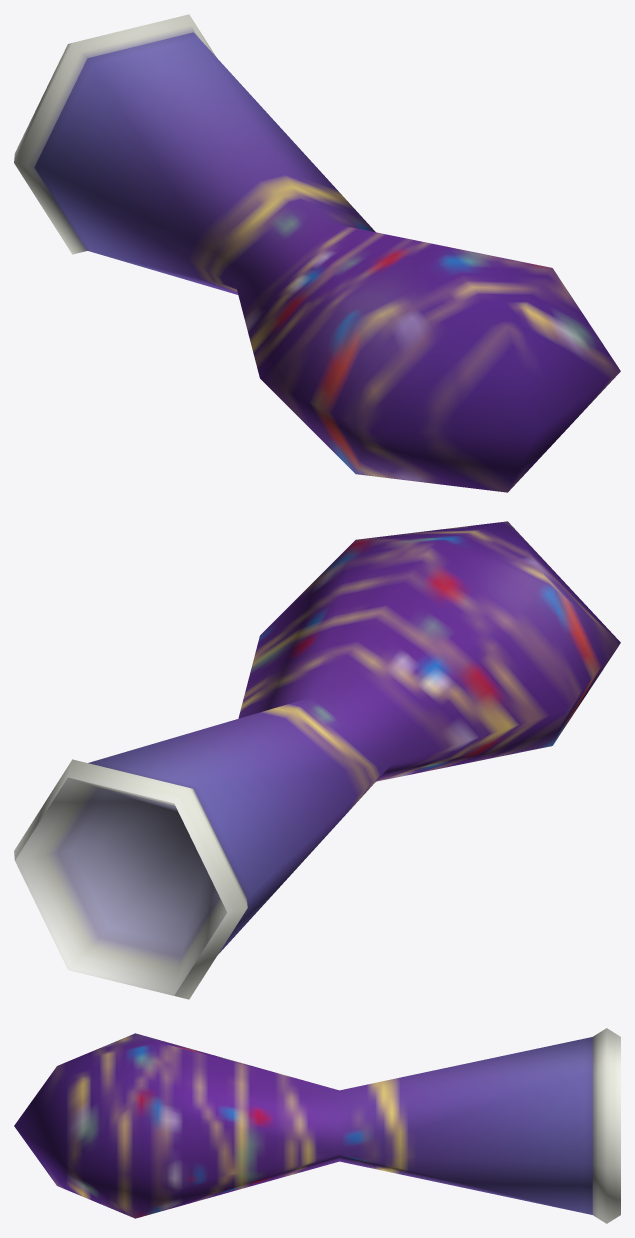
The model's file is jsf_Balloon_06.fbx.
3 renders of one model, top to bottom at view 1: azimuth 30°, elevation 25°; view 2: azimuth 150°, elevation 25°; view 3: azimuth 270°, elevation 25°, orthographic. The views are drawn at different scales.
Parts seen in each view (by area): view 1: jsf_Balloon_06; view 2: jsf_Balloon_06; view 3: jsf_Balloon_06.
Boxes of the visible parts, left/top/right/bottom form: jsf_Balloon_06: left=14, top=14, right=620, bottom=492; jsf_Balloon_06: left=14, top=521, right=620, bottom=999; jsf_Balloon_06: left=14, top=1028, right=620, bottom=1223.
Size of the model in its own units: 1.44 by 1.02 by 3.39.
